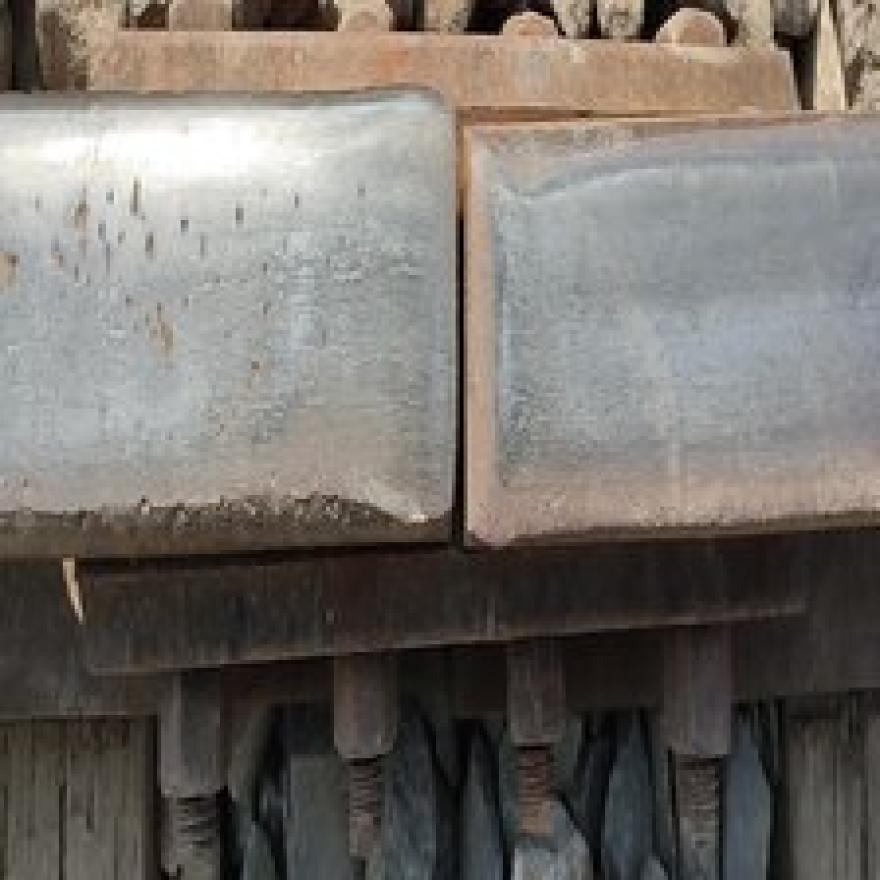railway-gap: (228, 63, 694, 576)
